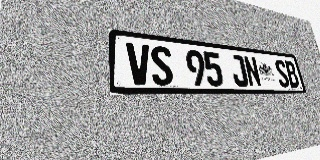5: (203, 51, 224, 86)
9: (185, 49, 208, 86)
B: (284, 60, 300, 88)
J: (229, 54, 249, 87)
N: (243, 56, 262, 87)
S: (150, 45, 174, 86), (273, 59, 291, 87)
V: (126, 42, 152, 85)
